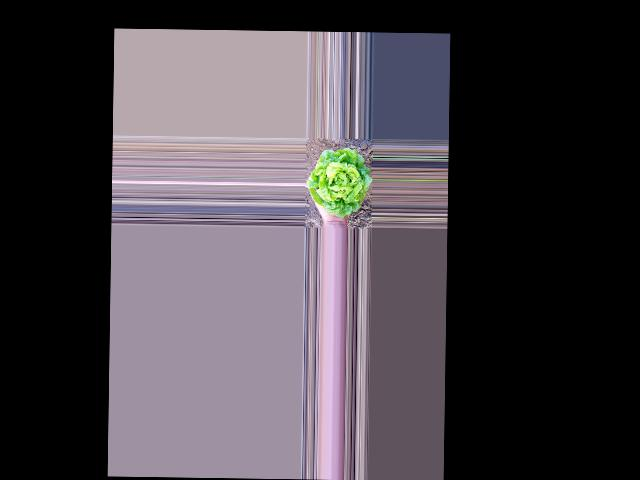lettuce: (308, 146, 370, 213)
